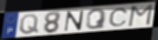8: (43, 11, 62, 34)
C: (108, 7, 130, 27)
M: (127, 3, 155, 27)
N: (63, 9, 85, 32)
Q: (85, 8, 108, 31), (19, 13, 40, 35)
